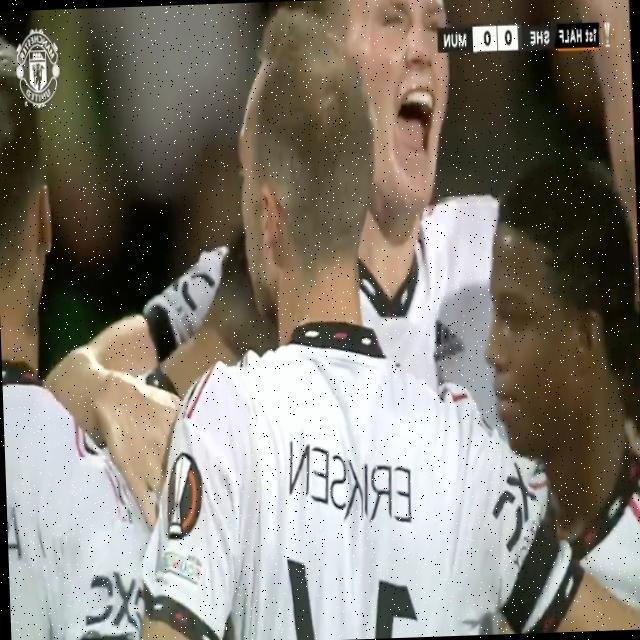Adidas: (429, 315, 466, 364)
